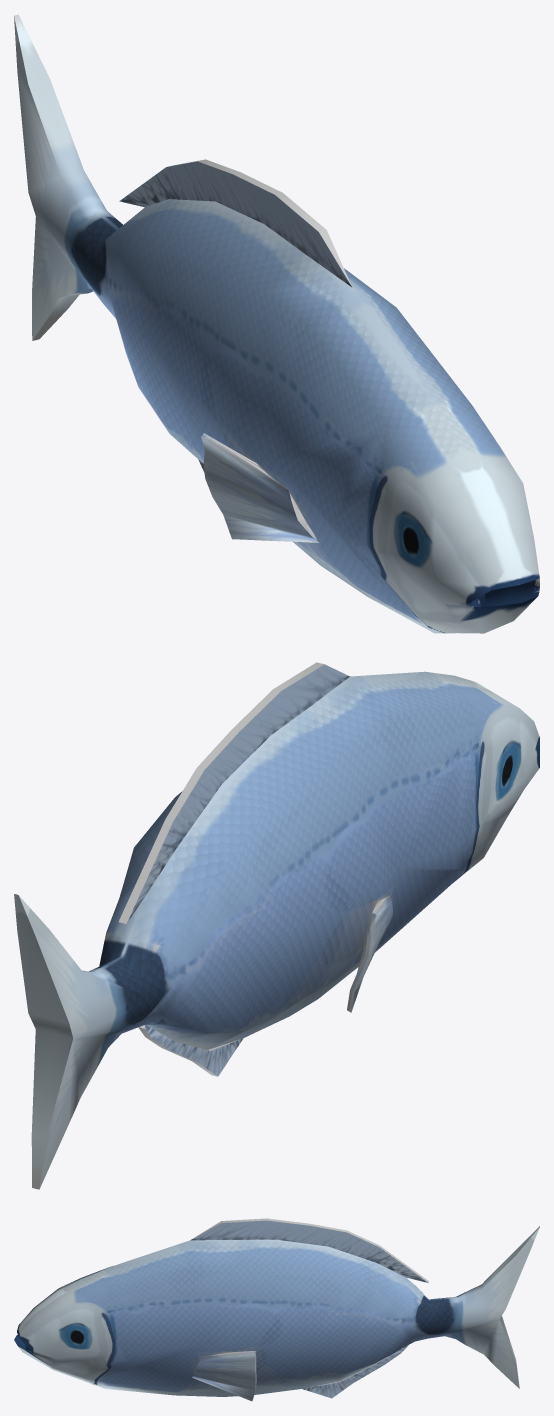
File: Oblada_Melanura.fbx
3 views of the same model, one above another, from view 1: azimuth 30°, elevation 25°; view 2: azimuth 150°, elevation 25°; view 3: azimuth 270°, elevation 25° (orthographic). The views are drawn at different scales.
Parts seen in each view (by area): view 1: Oblada; view 2: Oblada; view 3: Oblada.
Boxes of the visible parts, x1,y1,x2,y2 form: Oblada: (14, 14, 539, 633); Oblada: (14, 662, 539, 1189); Oblada: (14, 1218, 539, 1401).
Bounding box in the file's own units: 62.17 × 114 × 306.
Materials: 1 (1 with a texture image).
